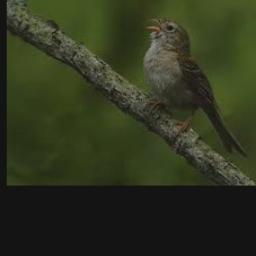Sparrow: (142, 16, 246, 157)
